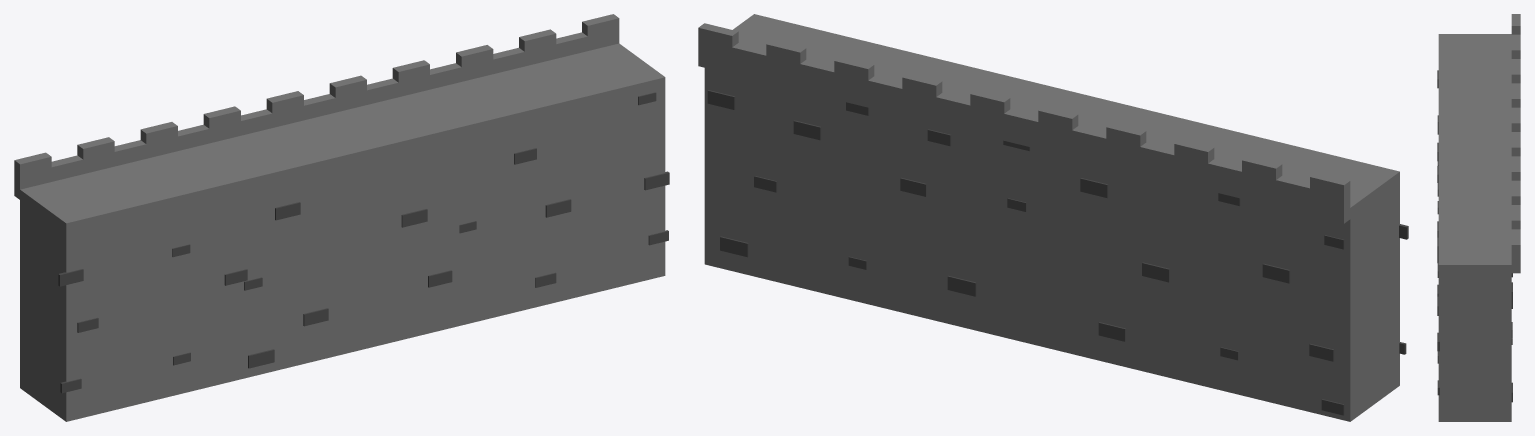
Rendered from LargeCastle_Wall.fbx.
3 views of the same model, side by side, from view 1: azimuth 30°, elevation 25°; view 2: azimuth 150°, elevation 25°; view 3: azimuth 270°, elevation 25° (orthographic). The views are drawn at different scales.
Visible parts, largest first — view 1: Cube; view 2: Cube; view 3: Cube.
Part boxes in pixels (left/top/right/bottom): Cube: left=14, top=14, right=669, bottom=421; Cube: left=698, top=14, right=1408, bottom=421; Cube: left=1437, top=14, right=1520, bottom=421.
Bounding box in the file's own units: 3052 × 1071 × 458.
